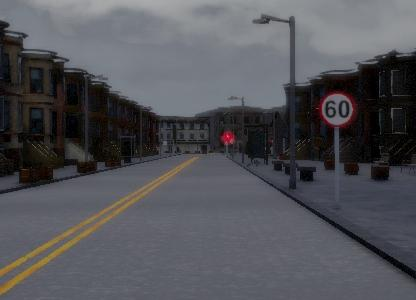Speed_60: (317, 88, 358, 130)
